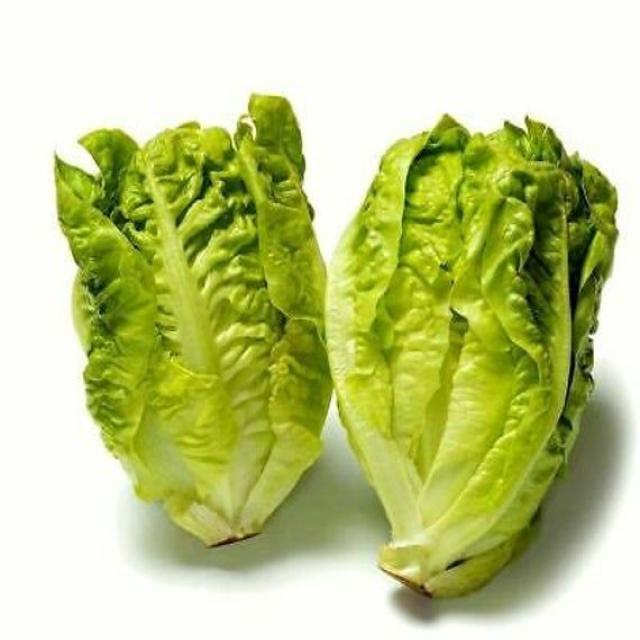lettuce: (327, 119, 616, 596), (56, 96, 331, 545)
